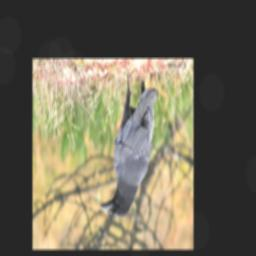Crow: (100, 70, 158, 218)
